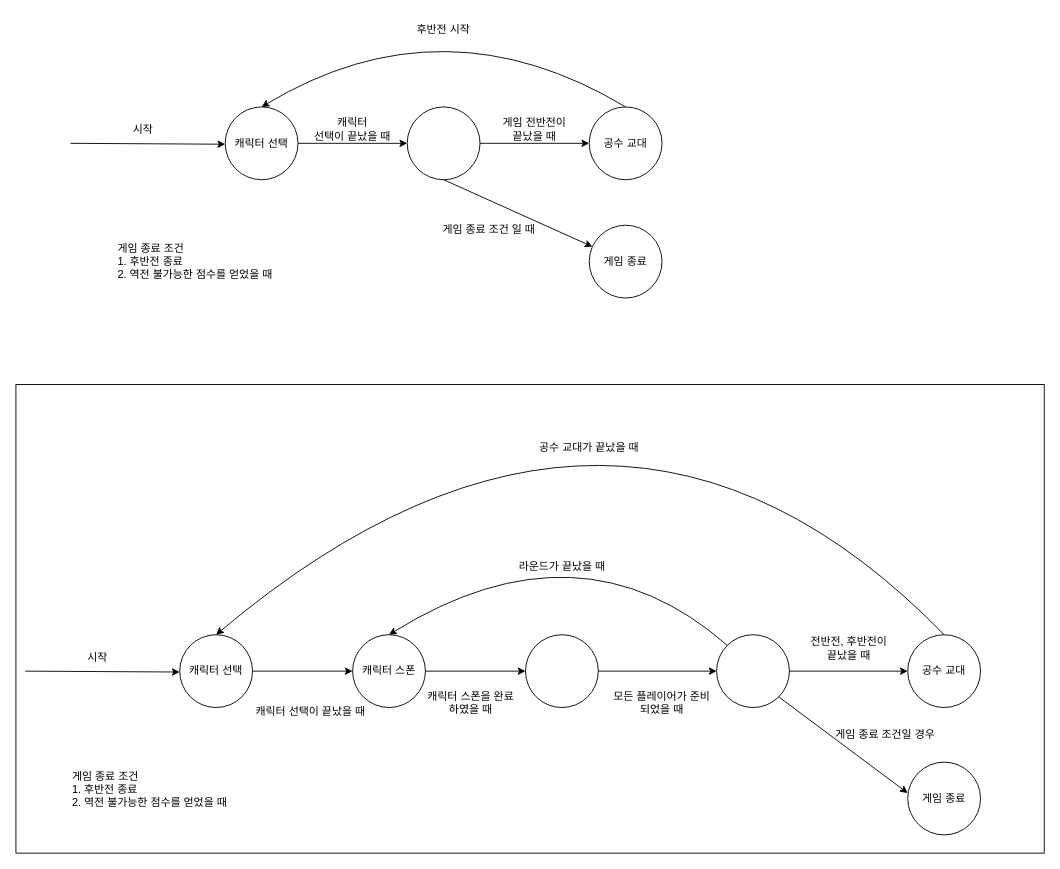
This 1060x869 diagram has some shape labels left out. The shapes that lost their labels are listed below. From the top down, each one's box as (x1, y1, x2, y2) in pixels, then its label:
(406, 106, 480, 180): 게임 진행
(525, 634, 598, 708): 게임 라운드 대기
(716, 634, 789, 708): 게임 진행 상태
